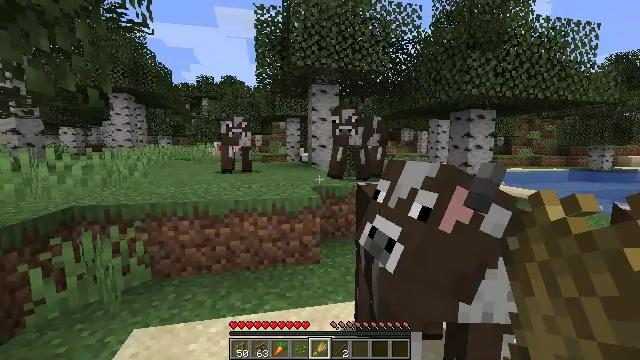cow: (355, 159, 539, 322), (329, 109, 383, 178), (220, 117, 251, 173)
